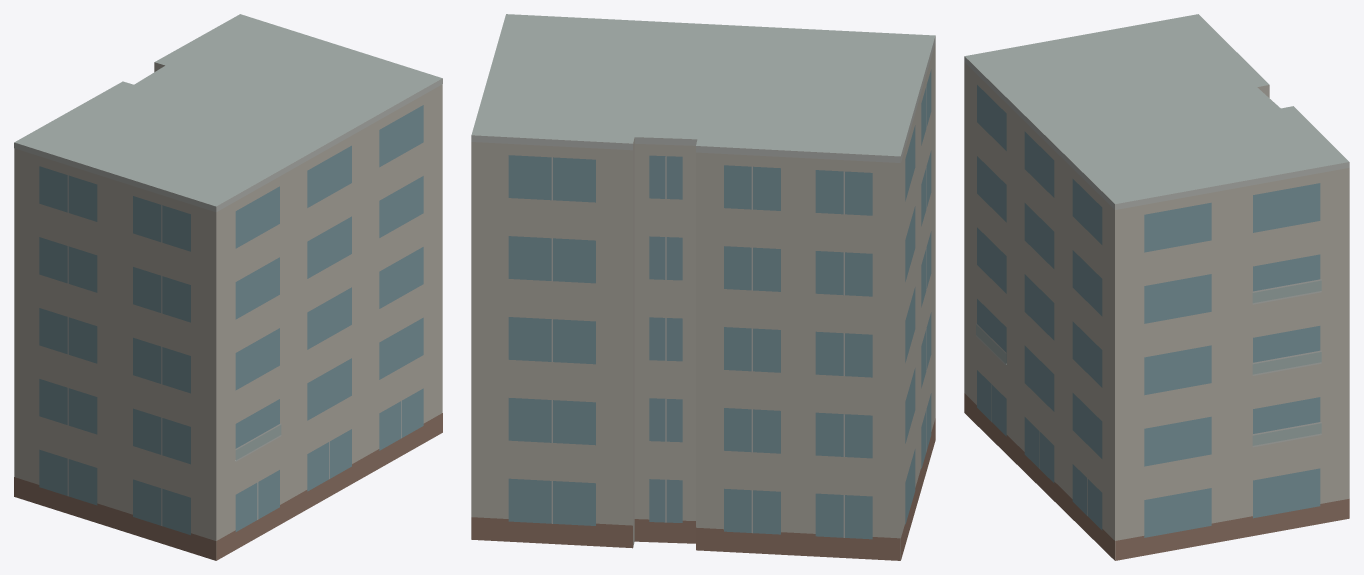
Rendered from survey-upis-32464136.glb.
3 renders of one model, left to right at view 1: azimuth 30°, elevation 25°; view 2: azimuth 150°, elevation 25°; view 3: azimuth 270°, elevation 25°, orthographic. The views are drawn at different scales.
Parts seen in each view (by area): view 1: survey-upis-32464136.tmp; view 2: survey-upis-32464136.tmp; view 3: survey-upis-32464136.tmp.
Part boxes in pixels (x1=…): survey-upis-32464136.tmp: x1=14, y1=14, x2=442, y2=560; survey-upis-32464136.tmp: x1=471, y1=14, x2=935, y2=560; survey-upis-32464136.tmp: x1=964, y1=14, x2=1349, y2=560.
Bounding box in the file's own units: 16.99 × 14.85 × 14.54.
